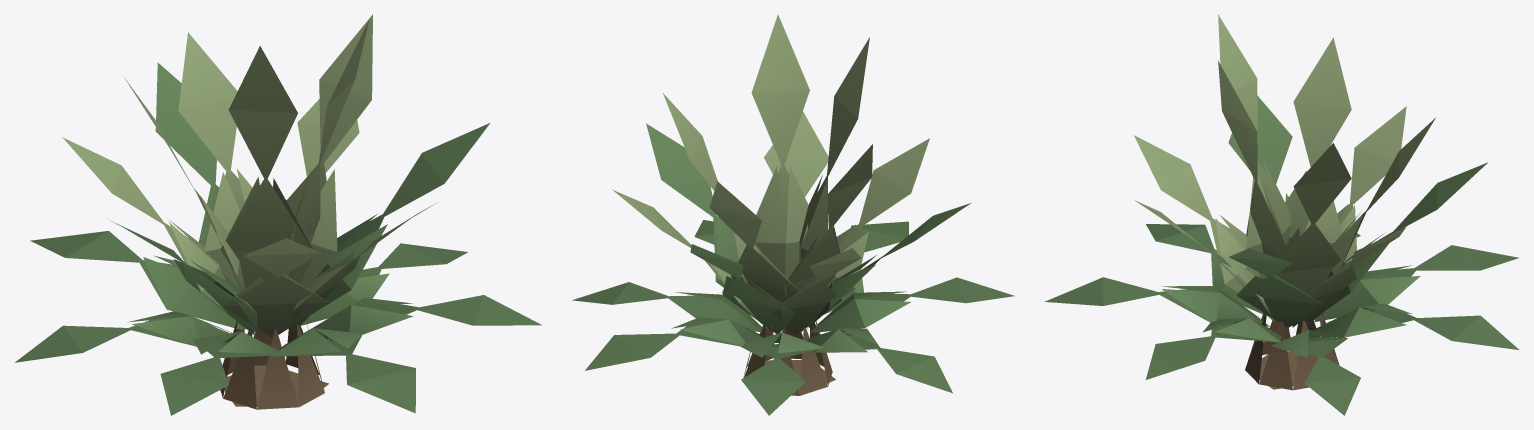
The model's file is fern.lod.glb.
The picture shows the model from 3 angles, left to right: view 1: azimuth 30°, elevation 25°; view 2: azimuth 150°, elevation 25°; view 3: azimuth 270°, elevation 25°; orthographic projection. The views are drawn at different scales.
Visible parts, largest first — view 1: fern; view 2: fern; view 3: fern.
Part boxes in pixels (box(x1,y1,x2,y2)): fern: box(14, 14, 541, 415); fern: box(572, 14, 1014, 415); fern: box(1044, 14, 1518, 415).
Bounding box in the file's own units: 1.16 × 0.9407 × 1.22.
